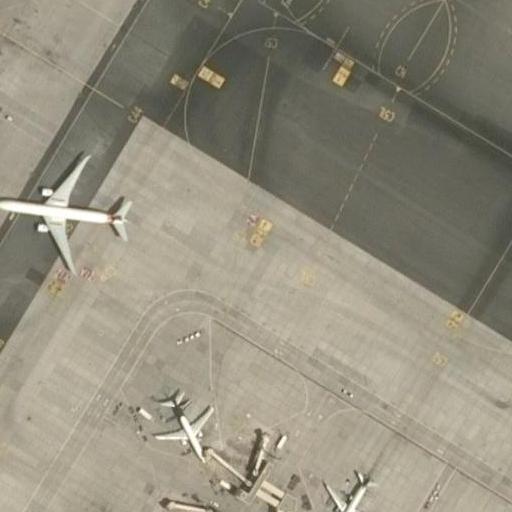Aircraft: (0, 144, 128, 263), (147, 390, 213, 456), (315, 467, 377, 512)
